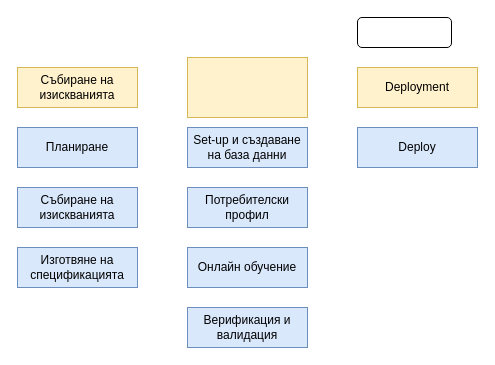
Image size: 495x365. Some labels were removed from this diagram. Here are the shapes that lost their labels. From the top down, the centre of each, then its label:
At [404,32]: "Moodle".
At [247,87]: "Разработване и конфигуриране на софтуерна система".
